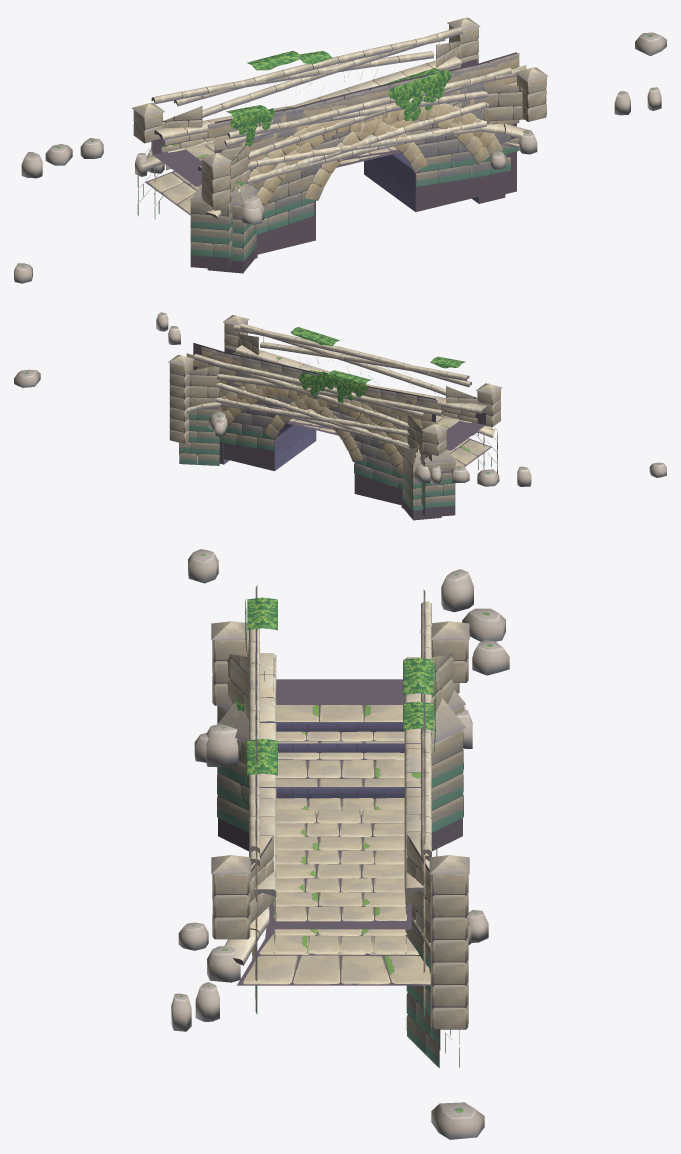
File: Bridge.glb
3 renders of one model, top to bottom at view 1: azimuth 30°, elevation 25°; view 2: azimuth 150°, elevation 25°; view 3: azimuth 270°, elevation 25°, orthographic. The views are drawn at different scales.
Visible parts, largest first — view 1: BridgeC, BridgeA, BridgeB, BridgeTopC, BridgeLoose, BridgeTopA, BridgeTopB; view 2: BridgeC, BridgeA, BridgeB, BridgeTopC, BridgeLoose, BridgeTopA, BridgeTopB; view 3: BridgeTopC, BridgeC, BridgeTopA, BridgeB, BridgeLoose, BridgeA, BridgeTopB.
Boxes of the visible parts, <box> form: BridgeC: <box>137,17,548,269</box>; BridgeA: <box>131,26,526,255</box>; BridgeB: <box>154,37,519,273</box>; BridgeTopC: <box>152,105,526,186</box>; BridgeLoose: <box>14,32,666,283</box>; BridgeTopA: <box>142,56,489,229</box>; BridgeTopB: <box>166,120,486,186</box>; BridgeC: <box>168,315,497,517</box>; BridgeA: <box>186,323,502,505</box>; BridgeB: <box>199,324,484,520</box>; BridgeTopC: <box>187,385,487,450</box>; BridgeLoose: <box>14,312,666,486</box>; BridgeTopA: <box>215,345,495,484</box>; BridgeTopB: <box>215,397,471,450</box>; BridgeTopC: <box>224,653,430,985</box>; BridgeC: <box>211,585,469,1067</box>; BridgeTopA: <box>249,775,431,929</box>; BridgeB: <box>217,627,466,1018</box>; BridgeLoose: <box>171,549,509,1139</box>; BridgeA: <box>211,621,469,1006</box>; BridgeTopB: <box>268,763,431,953</box>.
Bounding box in the file's own units: 125 × 25.2 × 31.3.
Materials: 2 (2 with a texture image).
